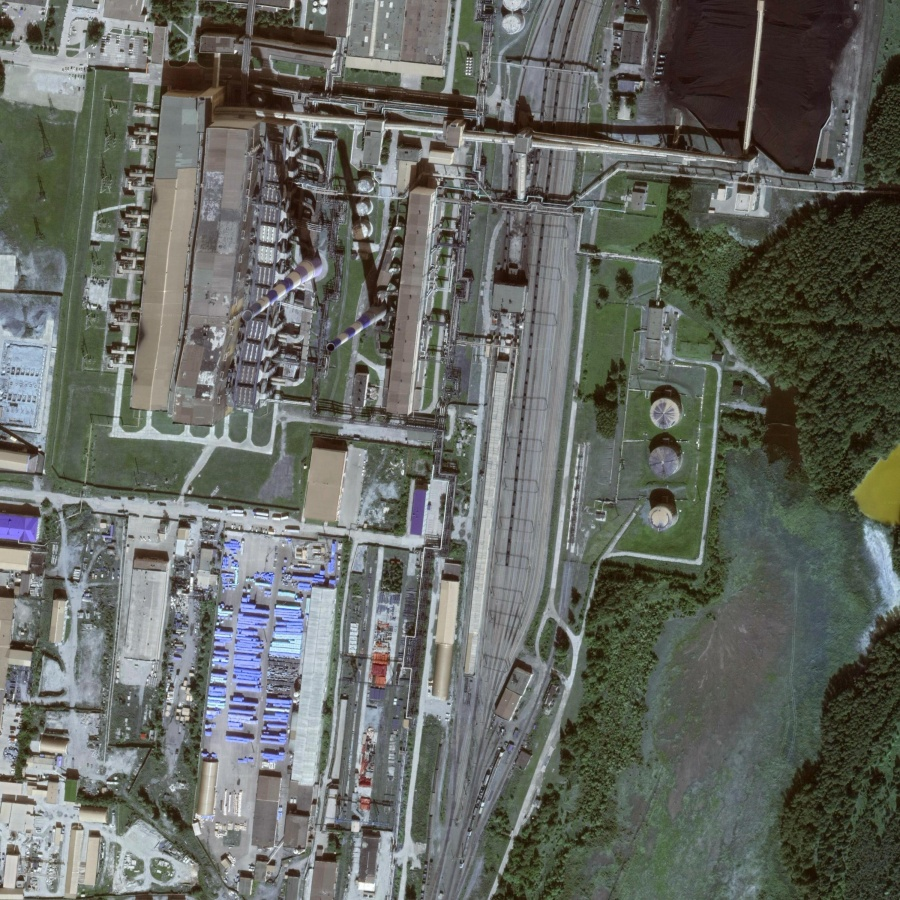PowerPlant: (212, 54, 465, 382), (571, 371, 719, 546)
